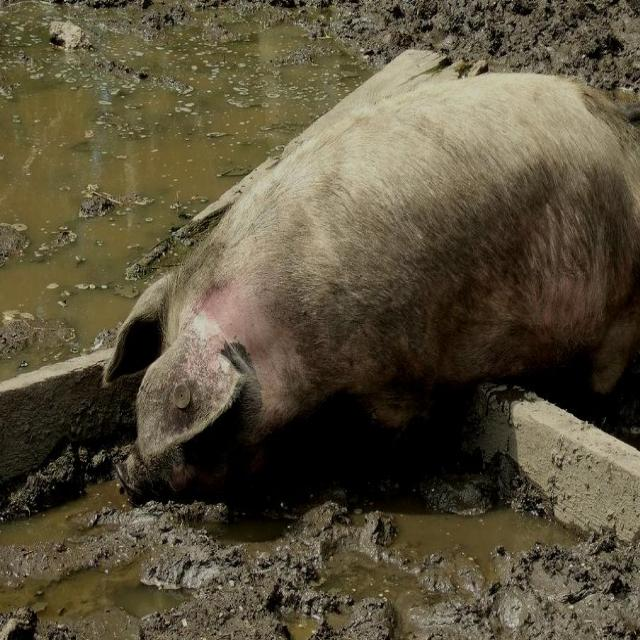pig: (105, 74, 640, 498)
